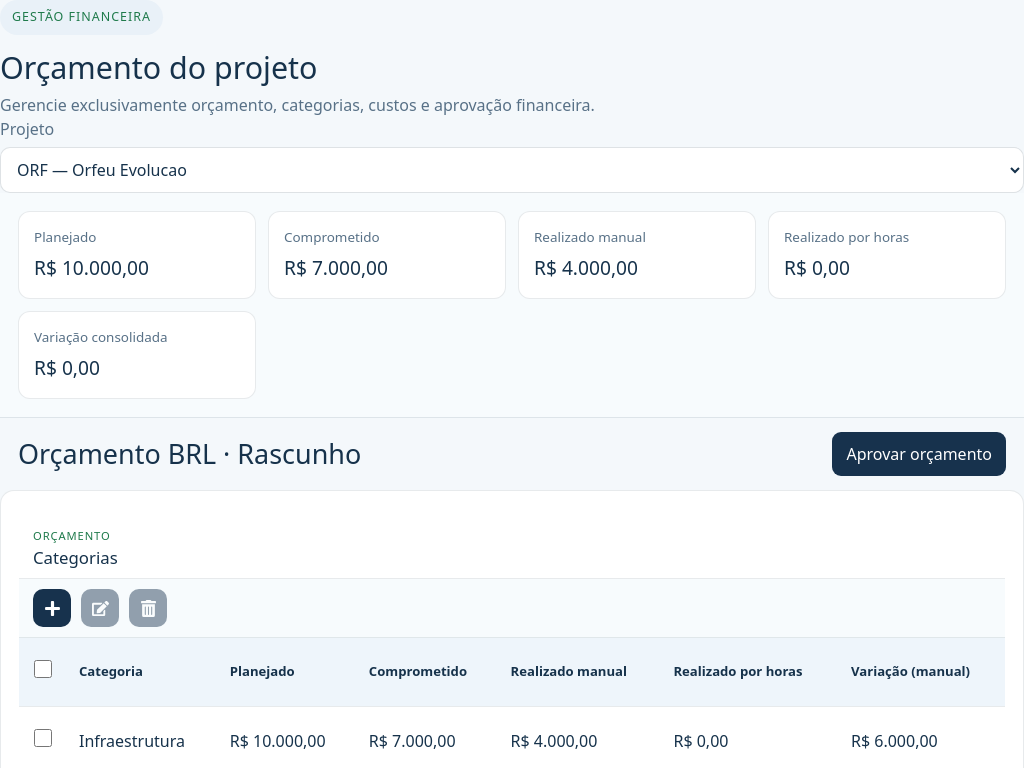
Test: Orcamento do projeto › atualiza a lista após aprovar e remove os controles do projeto aprovado
Click the button "Aprovar orçamento" at (919, 454), box [832, 432, 1006, 476]
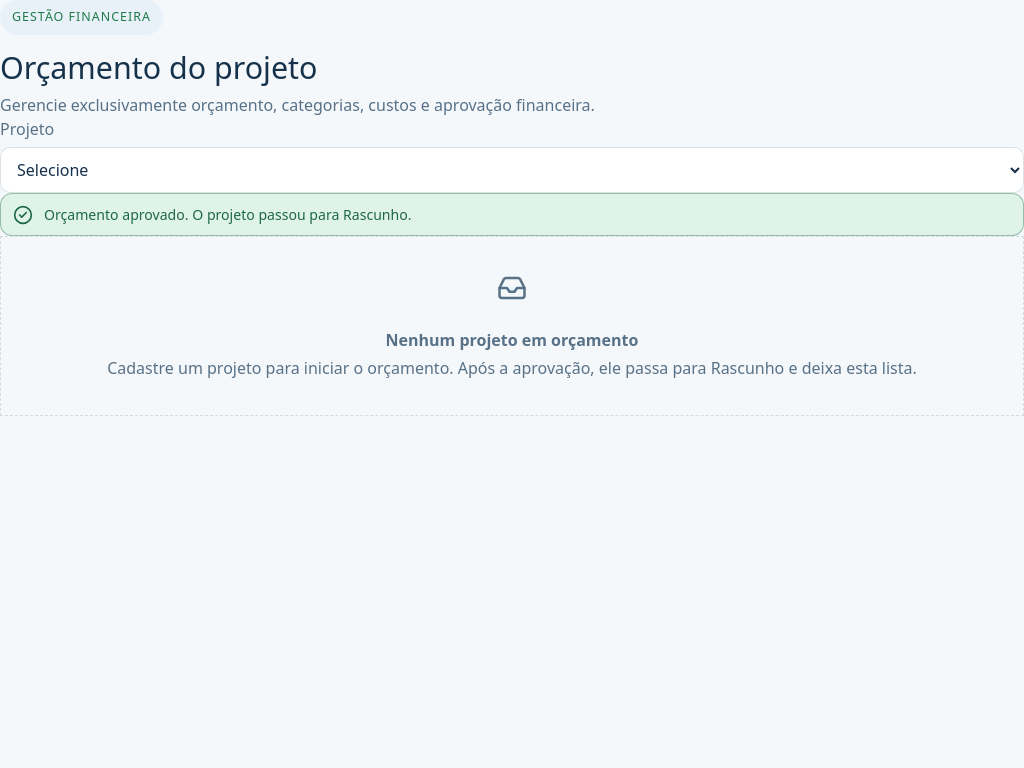
Expected: the option "ORF — Orfeu Evolucao" is not shown
Expected: the text "Orçamento aprovado. O projeto passou para Rascunho." is shown, [44, 205, 412, 224]
Expected: the button "Aprovar orçamento" is gone
